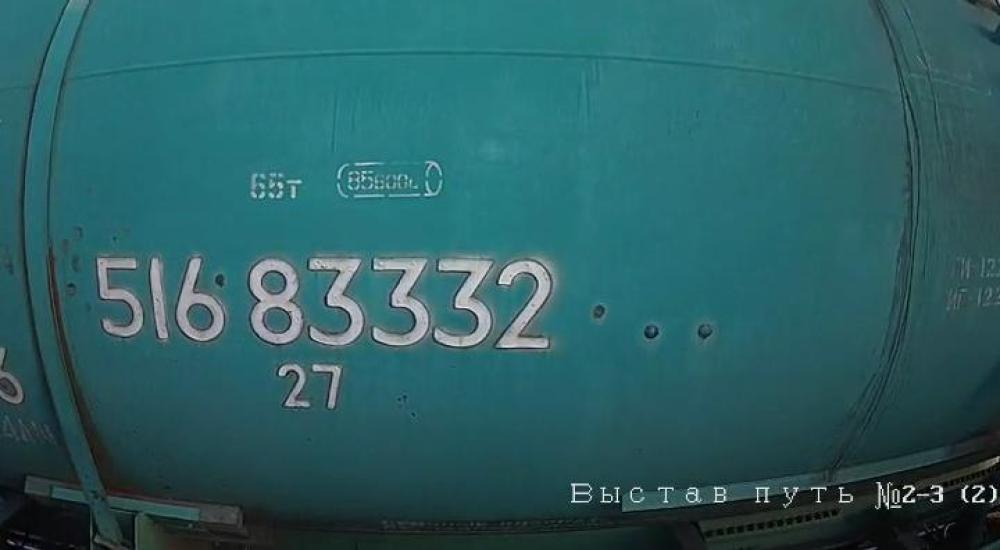Wagon-number: (84, 245, 560, 356)
